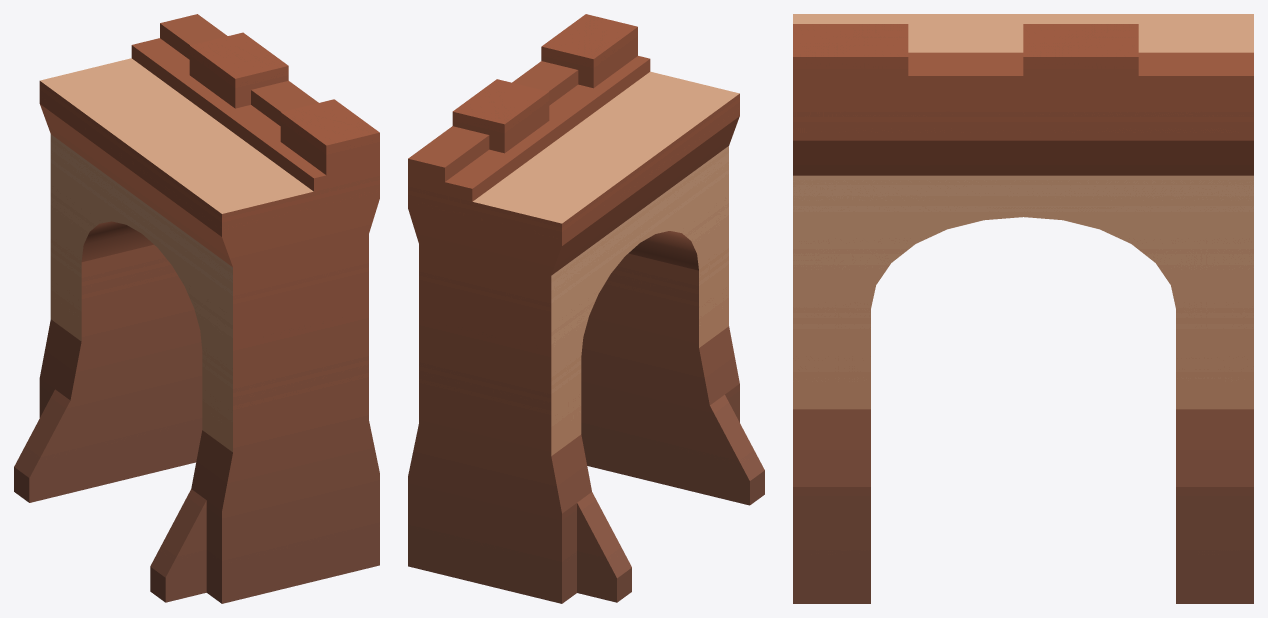
Rendered from wall-narrow-gate.glb.
3 renders of one model, left to right at view 1: azimuth 30°, elevation 25°; view 2: azimuth 150°, elevation 25°; view 3: azimuth 270°, elevation 25°, orthographic. The views are drawn at different scales.
Visible parts, largest first — view 1: wall-narrow-gate; view 2: wall-narrow-gate; view 3: wall-narrow-gate.
Boxes of the visible parts, left/top/right/bottom form: wall-narrow-gate: left=14, top=14, right=379, bottom=603; wall-narrow-gate: left=408, top=14, right=764, bottom=603; wall-narrow-gate: left=793, top=14, right=1253, bottom=603.
Bounding box in the file's own units: 1.89 × 3.93 × 3.
1 material, 1 textured.
